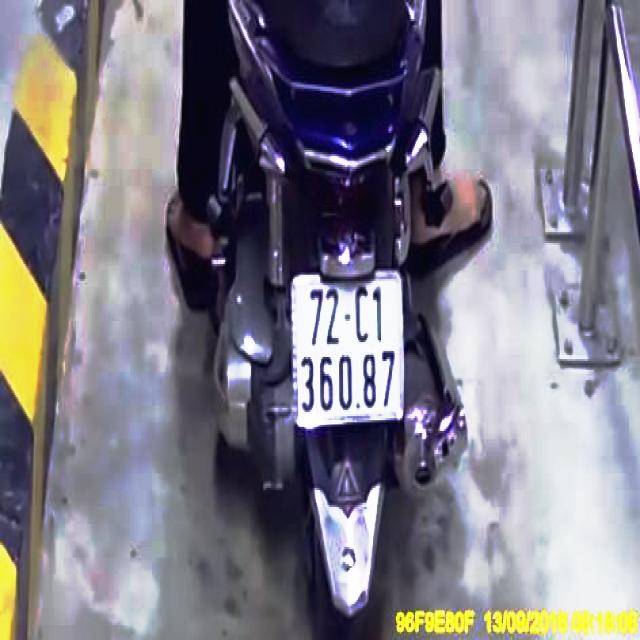license_plate: (295, 278, 405, 424)
